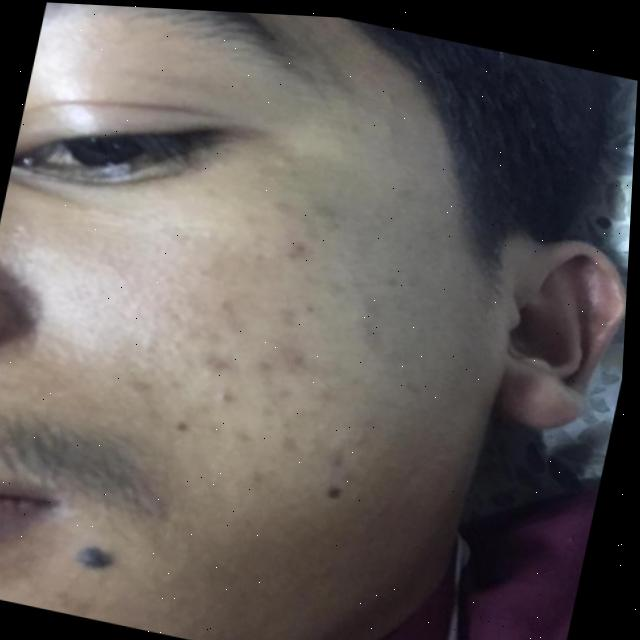Acne: (120, 156, 429, 498)
